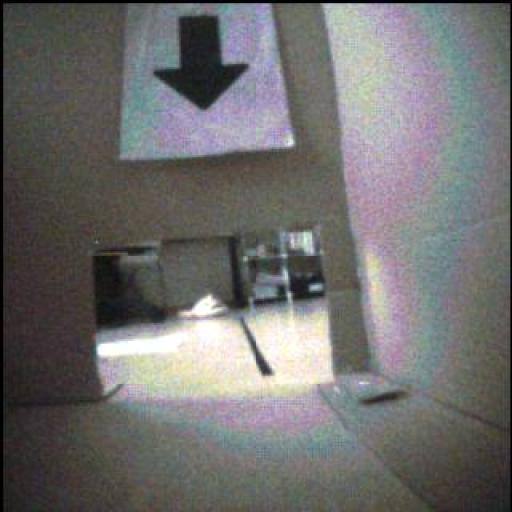arrow: (155, 17, 249, 110)
